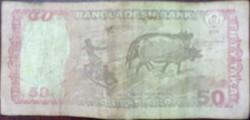50 taka: (1, 2, 247, 114)
